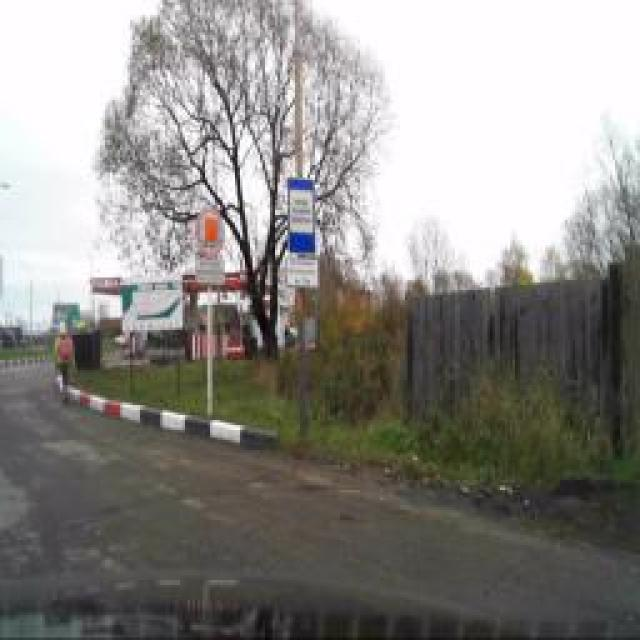sign: (195, 204, 225, 258)
